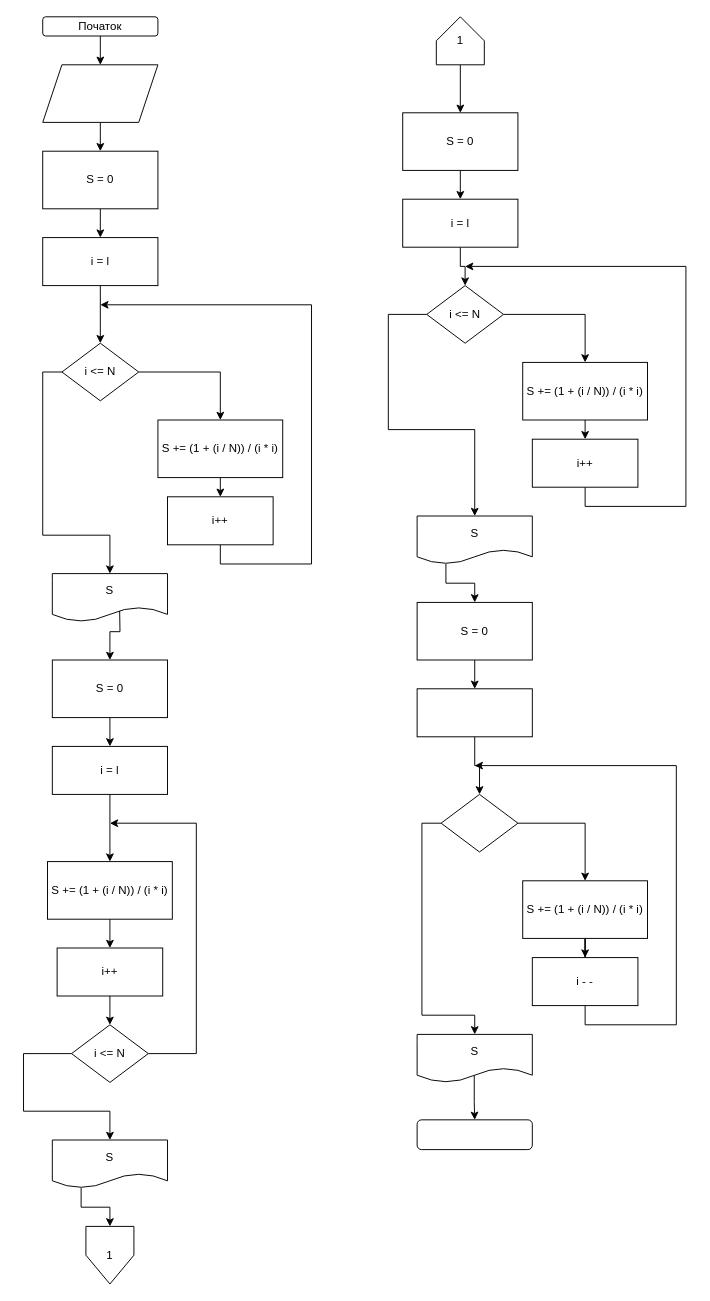
Some shapes in this 710 by 1301 pixel diagram are drawn without their labels. Here are the shapes that lost their labels. From the top down, the centre of each, then its label:
point (100, 93): l,N
point (474, 712): i = N
point (479, 822): i >= l
point (474, 1134): Кінець
